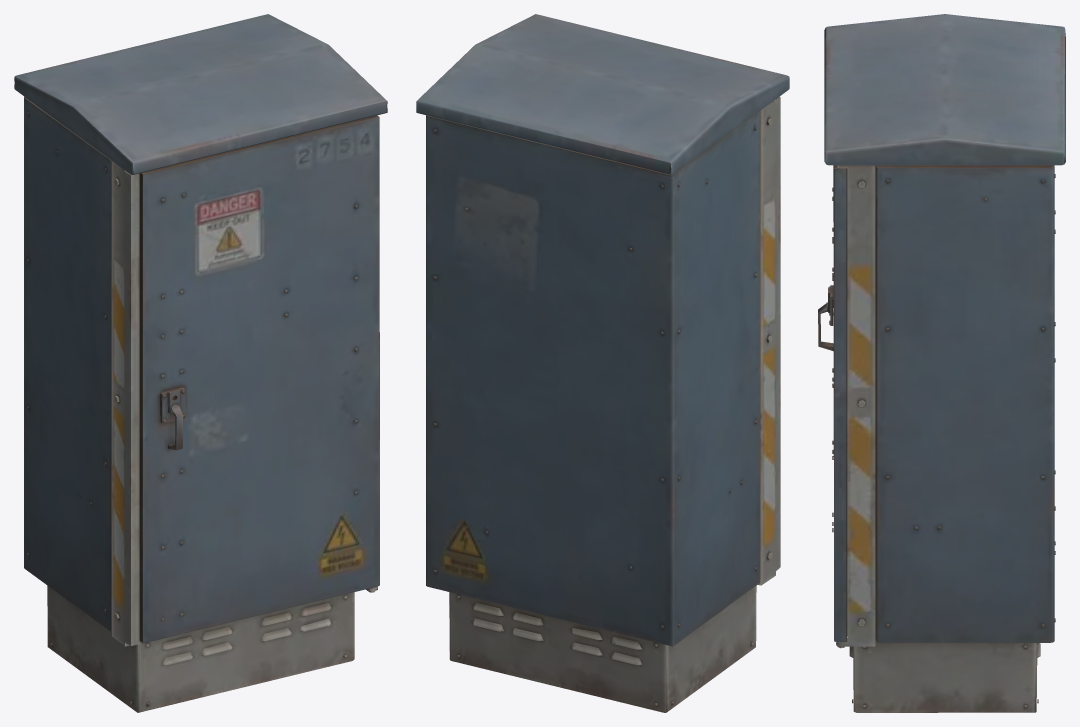
File: utility_box.glb
3 renders of one model, left to right at view 1: azimuth 30°, elevation 25°; view 2: azimuth 150°, elevation 25°; view 3: azimuth 270°, elevation 25°, orthographic.
Visible parts, largest first — view 1: utility_box_01_box; view 2: utility_box_01_box; view 3: utility_box_01_box.
Part boxes in pixels (<box>): utility_box_01_box: <box>14,14,387,712</box>; utility_box_01_box: <box>416,14,789,712</box>; utility_box_01_box: <box>818,14,1065,712</box>.
Size of the model in its own units: 0.52 by 1.12 by 0.4311.
Materials: 1 (1 with a texture image).
